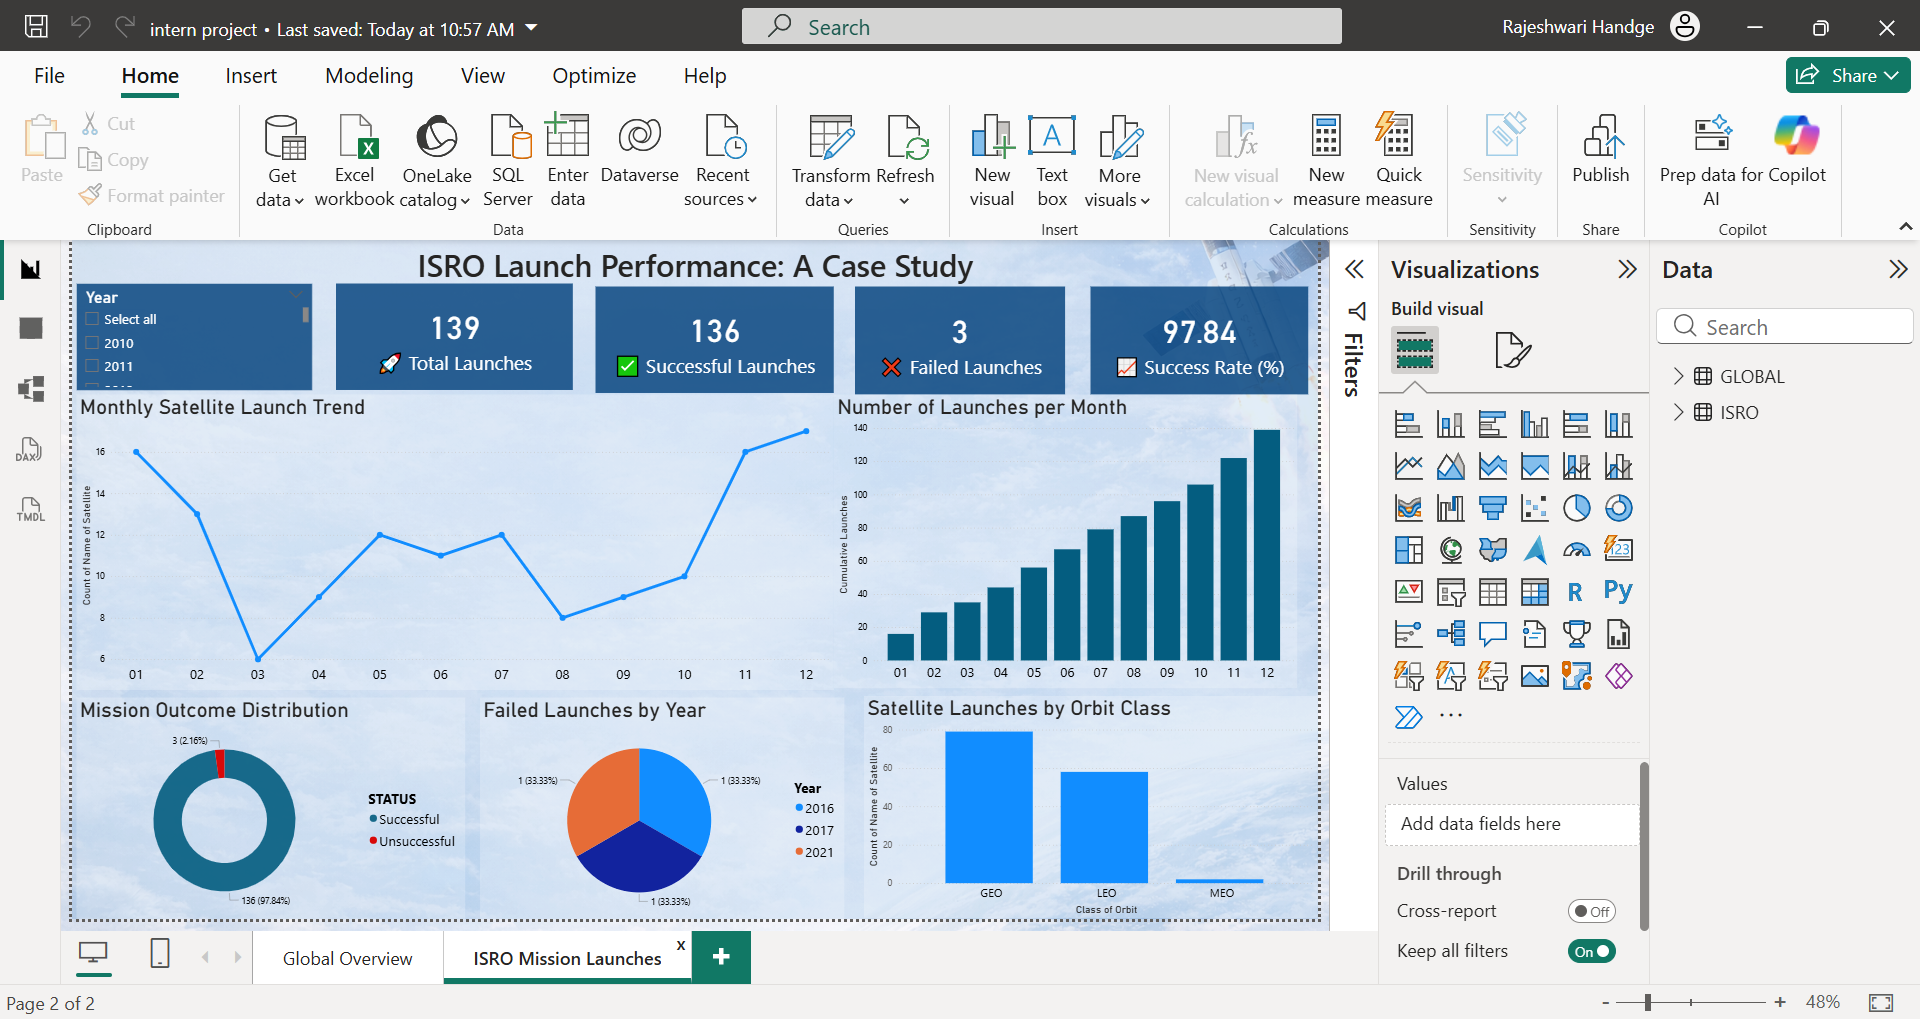

What the dashboard file says about the page in this screenshot:
{"tool":"powerbi","page":{"name":"ISRO Mission Launches","canvas":[1740,948],"ordinal":1},"visuals":[{"type":"textbox","box":[0,0,1740.4,96.3],"z":0},{"type":"card","fields":{"Values":["ISRO.Total Launches"]},"box":[368.6,60.7,330.9,148.7],"z":1000},{"type":"card","fields":{"Values":["ISRO.Successful Launches"]},"box":[730.9,64.9,333,148.7],"z":2000},{"type":"card","fields":{"Values":["ISRO.Failed Launches"]},"box":[1093.2,64.9,293.2,150.8],"z":3000},{"type":"card","fields":{"Values":["ISRO.Success Rate (%)"]},"box":[1422,64.9,303.7,150.8],"z":4000},{"type":"lineChart","title":"Monthly Satellite Launch Trend","fields":{"Y":["CountNonNull(ISRO.Current Official Name of Satellite)"],"Category":["ISRO.Month"]},"box":[6.2,232.6,1058,395.2],"z":5000},{"type":"slicer","fields":{"Values":["ISRO.Year"]},"box":[6.2,61.8,329.3,148.2],"z":6000},{"type":"donutChart","title":"Mission Outcome Distribution","fields":{"Category":["ISRO.Remark"],"Y":["CountNonNull(ISRO.Name of Satellite)"]},"box":[6.3,638.8,542.4,310],"z":7000},{"type":"clusteredColumnChart","title":"Number of Launches per Month","fields":{"Y":["ISRO.Cumulative Launches"],"Category":["ISRO.Month"]},"box":[1093,232.6,648.4,395.2],"z":8000},{"type":"clusteredColumnChart","title":"Satellite Launches by Orbit Class","fields":{"Y":["CountNonNull(ISRO.Name of Satellite)"],"Category":["ISRO.Class of Orbit"]},"box":[1106.7,636.7,633.3,310],"z":9000},{"type":"pieChart","title":"Satellite Launch by Purpose","fields":{"Category":["ISRO.Purpose"],"Y":["CountNonNull(ISRO.Name of Satellite)"]},"box":[549.6,638.1,557.8,310.8],"z":10000}]}

Visuals, with their boxes on the page's 1740x948 design canvas (x1, y1, x2, y2). These are canvas units, not pixel positions in the 1920x1019 screenshot, which may show the page scaled, cropped or inside an application window:
textbox: {"x1": 0, "y1": 0, "x2": 1740, "y2": 96}
card - ISRO.Total Launches: {"x1": 369, "y1": 61, "x2": 700, "y2": 209}
card - ISRO.Successful Launches: {"x1": 731, "y1": 65, "x2": 1064, "y2": 214}
card - ISRO.Failed Launches: {"x1": 1093, "y1": 65, "x2": 1386, "y2": 216}
card - ISRO.Success Rate (%): {"x1": 1422, "y1": 65, "x2": 1726, "y2": 216}
"Monthly Satellite Launch Trend" lineChart: {"x1": 6, "y1": 233, "x2": 1064, "y2": 628}
slicer - ISRO.Year: {"x1": 6, "y1": 62, "x2": 336, "y2": 210}
"Mission Outcome Distribution" donutChart: {"x1": 6, "y1": 639, "x2": 549, "y2": 949}
"Number of Launches per Month" clusteredColumnChart: {"x1": 1093, "y1": 233, "x2": 1741, "y2": 628}
"Satellite Launches by Orbit Class" clusteredColumnChart: {"x1": 1107, "y1": 637, "x2": 1740, "y2": 947}
"Satellite Launch by Purpose" pieChart: {"x1": 550, "y1": 638, "x2": 1107, "y2": 949}
